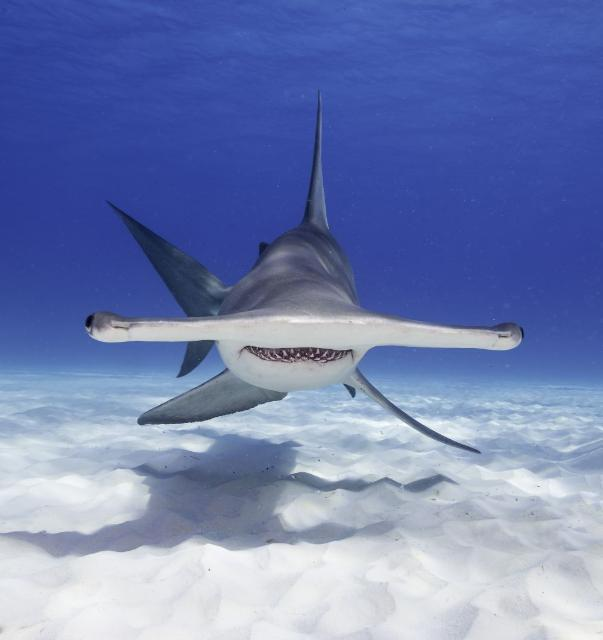Mulut: (230, 338, 367, 388)
Sirip Dada: (122, 364, 504, 478)
Sirip Ekor: (96, 186, 225, 382)
Sirip Punggung: (280, 74, 354, 246)
